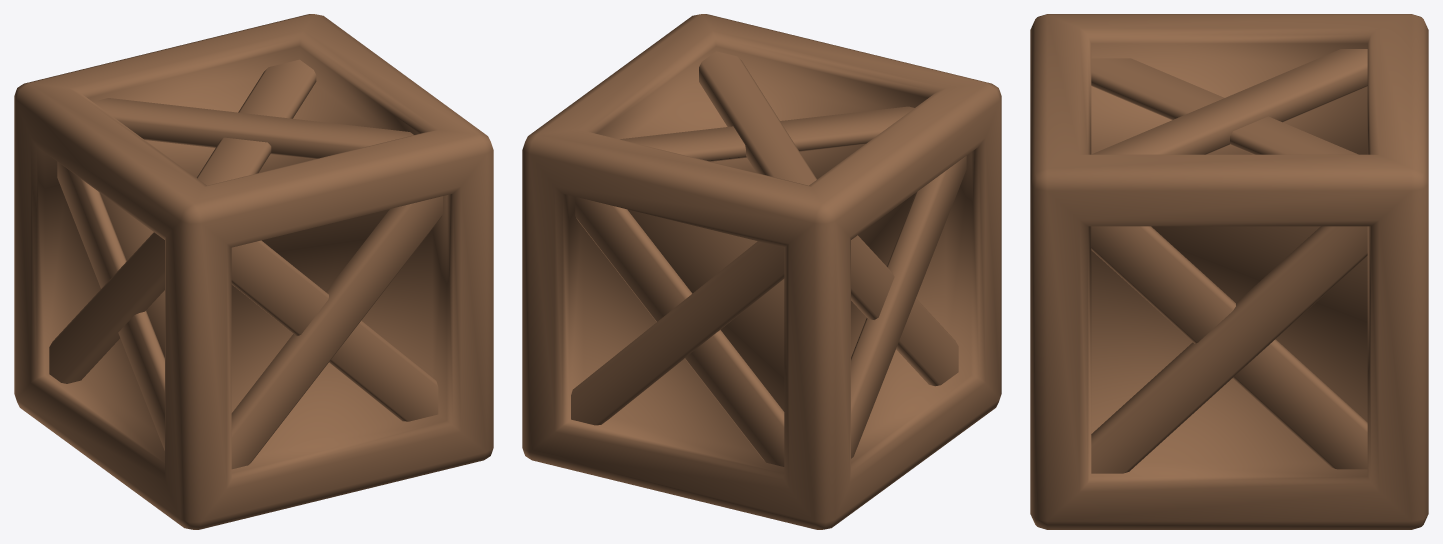
Rendered from Crate_1x1.glb.
3 renders of one model, left to right at view 1: azimuth 30°, elevation 25°; view 2: azimuth 150°, elevation 25°; view 3: azimuth 270°, elevation 25°, orthographic. The views are drawn at different scales.
Parts seen in each view (by area): view 1: Crate 1x1; view 2: Crate 1x1; view 3: Crate 1x1.
Boxes of the visible parts, x1,y1,x2,y2 form: Crate 1x1: (14,14,493,529); Crate 1x1: (522,14,1001,529); Crate 1x1: (1030,14,1428,529).
Size of the model in its own units: 2 by 2 by 2.
